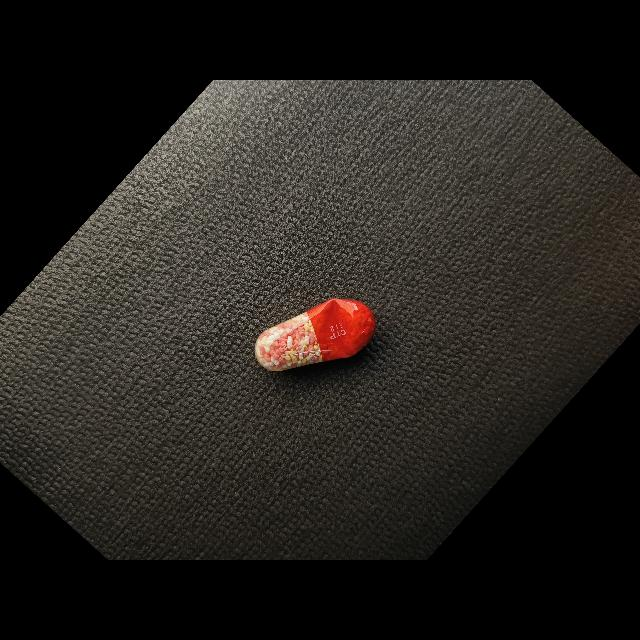Defective Capsule: (255, 299, 376, 371)
